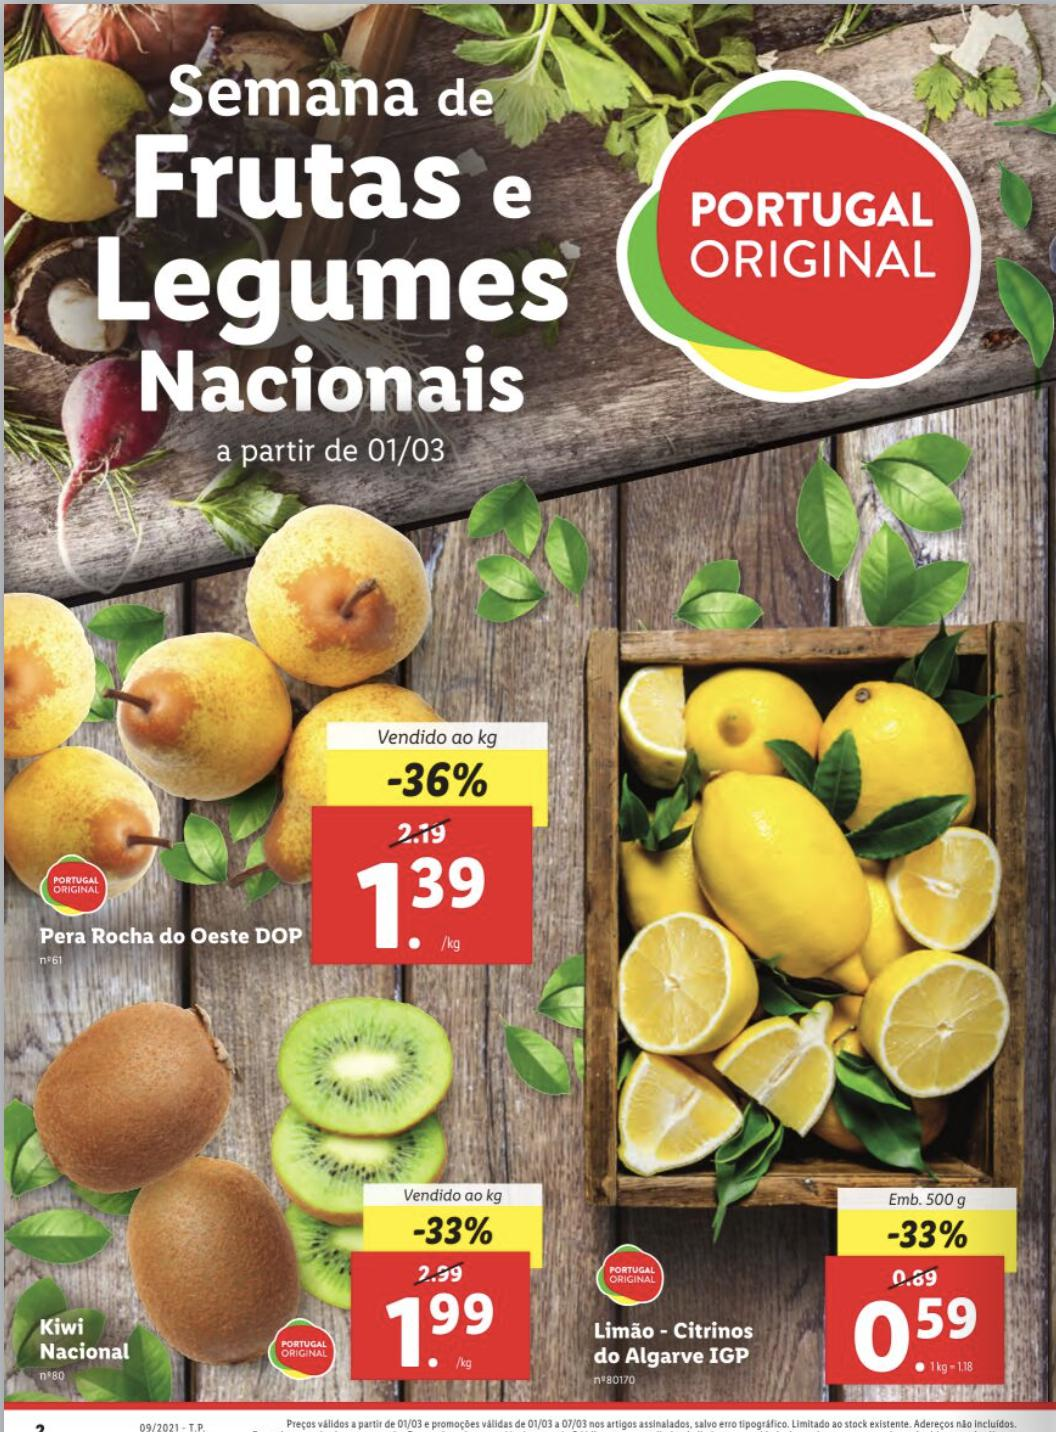name: (585, 1315, 767, 1368), (34, 918, 310, 949), (31, 1309, 137, 1365)
price: (310, 845, 535, 963), (821, 1290, 1005, 1386), (353, 1286, 531, 1381)
product: (556, 599, 1037, 1398), (8, 526, 555, 1000), (3, 1006, 558, 1425)
promotion: (373, 749, 510, 806), (887, 1209, 976, 1257), (408, 1204, 499, 1250)
